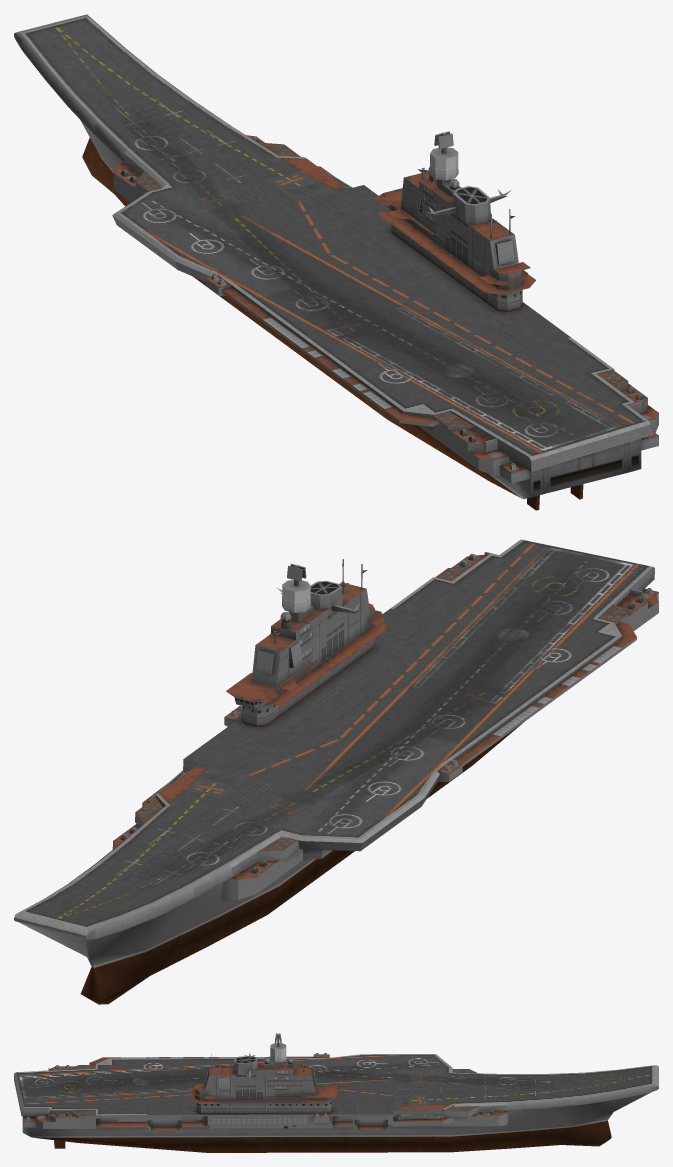
The picture shows the model from 3 angles, top to bottom: view 1: azimuth 30°, elevation 25°; view 2: azimuth 150°, elevation 25°; view 3: azimuth 270°, elevation 25°; orthographic projection. The views are drawn at different scales.
Visible parts, largest first — view 1: carrier; view 2: carrier; view 3: carrier.
Part boxes in pixels (x1,y1,x2,y2): carrier: [14, 14, 658, 510]; carrier: [14, 539, 658, 1004]; carrier: [14, 1033, 658, 1152].
Bounding box in the file's own units: 78.16 × 68.24 × 302.
6 materials, 4 textured.
